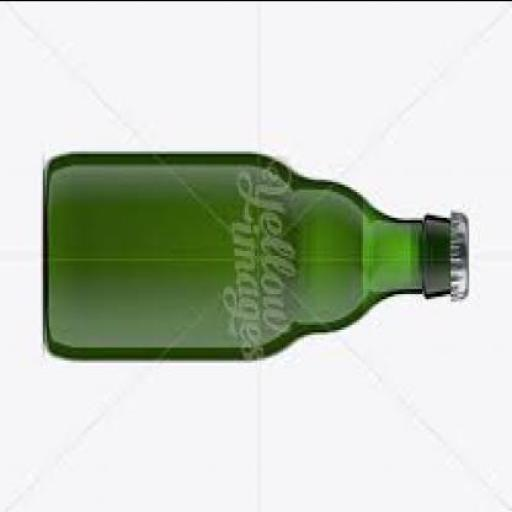glass: (44, 150, 453, 357)
metal: (449, 207, 473, 298)
